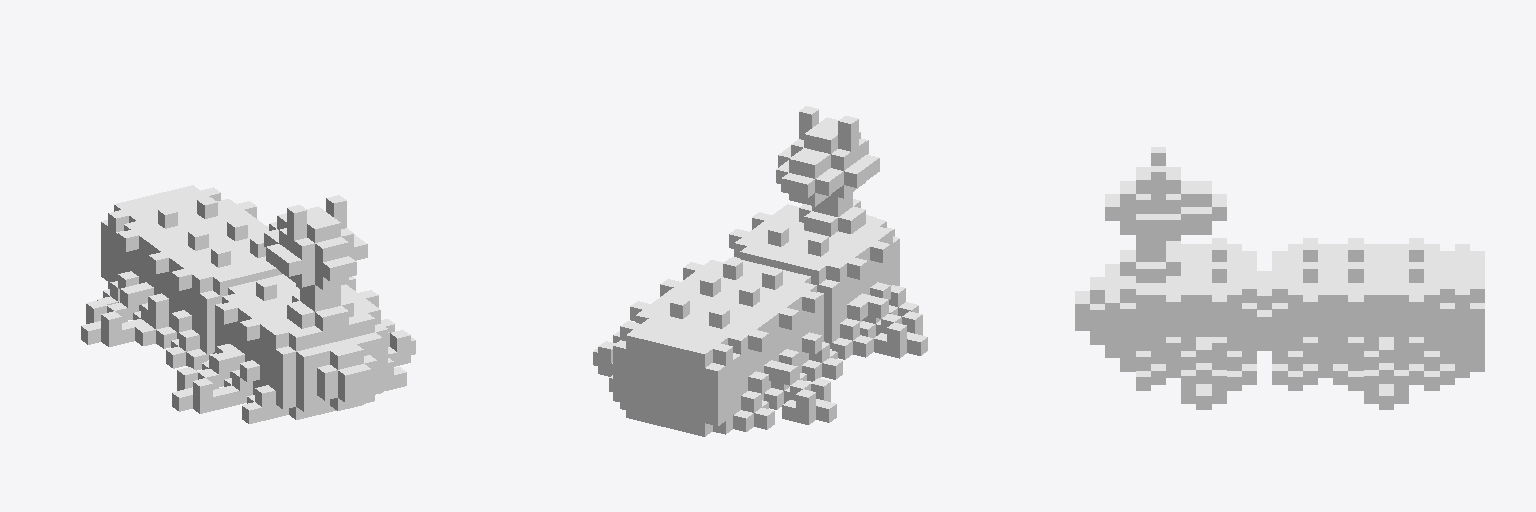
Rendered from cuerpotaladro.obj.
The picture shows the model from 3 angles: view 1: azimuth 30°, elevation 25°; view 2: azimuth 150°, elevation 25°; view 3: azimuth 270°, elevation 25°; orthographic projection.
Visible parts, largest first — view 1: cuerpotaladro; view 2: cuerpotaladro; view 3: cuerpotaladro.
Part boxes in pixels (x1,y1,x2,y2): cuerpotaladro: (81, 185, 415, 423); cuerpotaladro: (593, 106, 927, 436); cuerpotaladro: (1075, 147, 1484, 409).
Size of the model in its own units: 1.8 by 1.4 by 2.7.